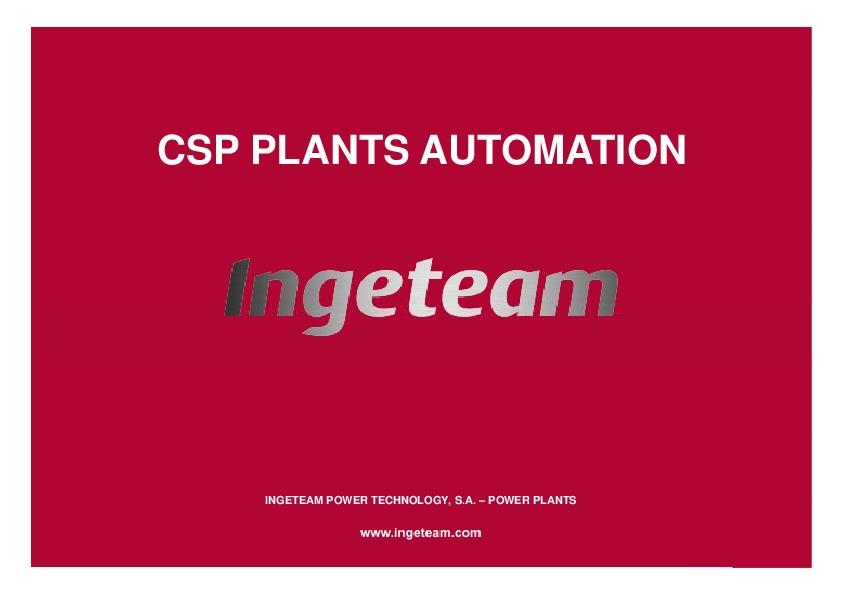subtitle: (252, 477, 600, 557)
title: (146, 112, 737, 337)
